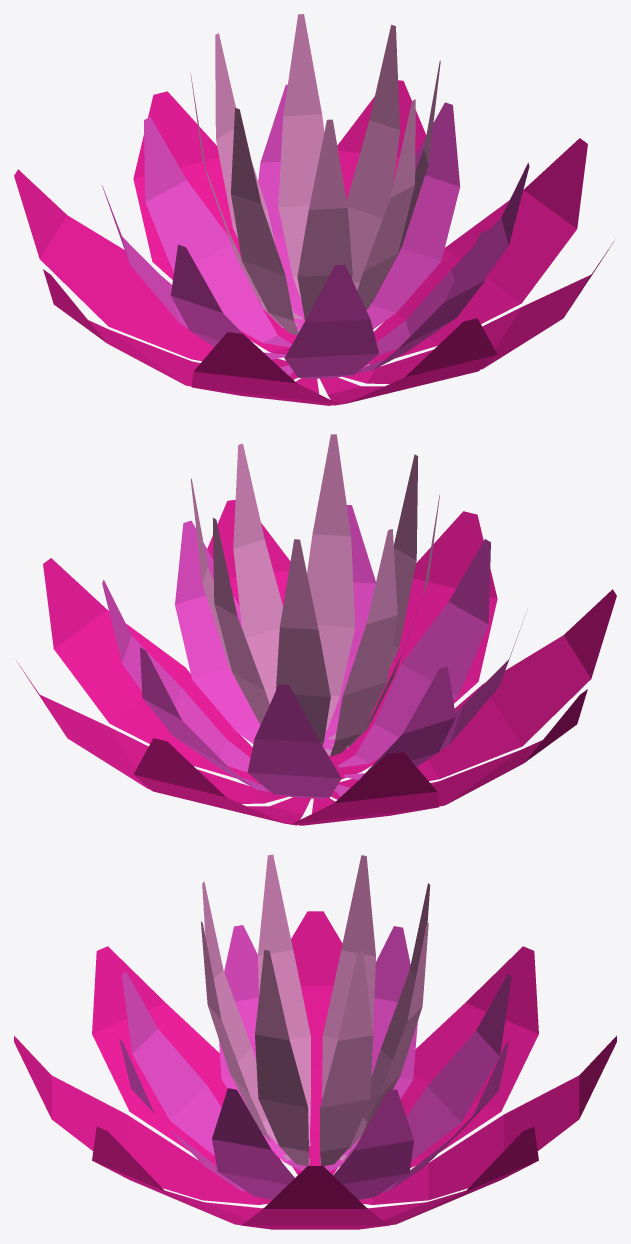
Rendered from lotus.fbx.
3 views of the same model, one above another, from view 1: azimuth 30°, elevation 25°; view 2: azimuth 150°, elevation 25°; view 3: azimuth 270°, elevation 25° (orthographic). The views are drawn at different scales.
Visible parts, largest first — view 1: Cube.001, Cube.002, Cube.003; view 2: Cube.001, Cube.002, Cube.003; view 3: Cube.001, Cube.003, Cube.002.
Boxes of the visible parts, x1,y1,x2,y2 form: Cube.001: [14, 80, 613, 405]; Cube.002: [102, 84, 529, 378]; Cube.003: [190, 14, 440, 335]; Cube.001: [16, 500, 616, 825]; Cube.002: [102, 505, 525, 798]; Cube.003: [190, 434, 439, 756]; Cube.001: [14, 911, 616, 1229]; Cube.003: [200, 854, 430, 1165]; Cube.002: [119, 925, 511, 1200].
Size of the model in its own units: 735 by 396 by 735.
